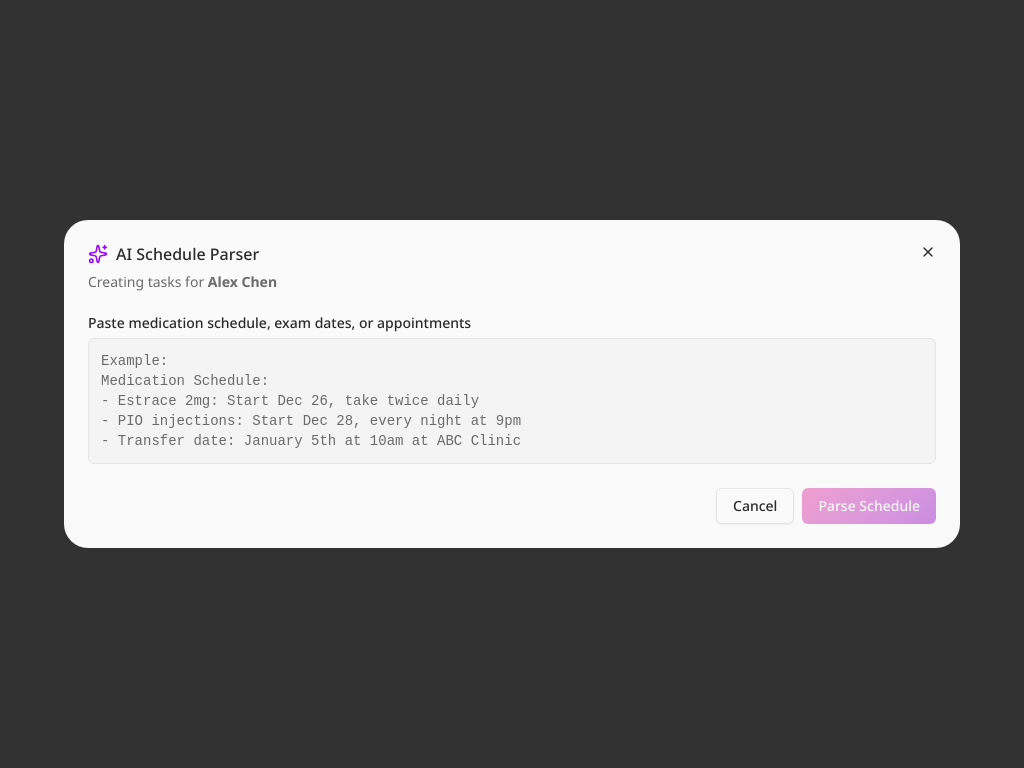
Test: ScheduleParserDialog › shows parser warnings without advancing when no tasks are proposed
This screenshot has width=1024, height=768.
Replace the text in the text box with "No usable dates here". click: (512, 401)
box: [88,338,936,464]
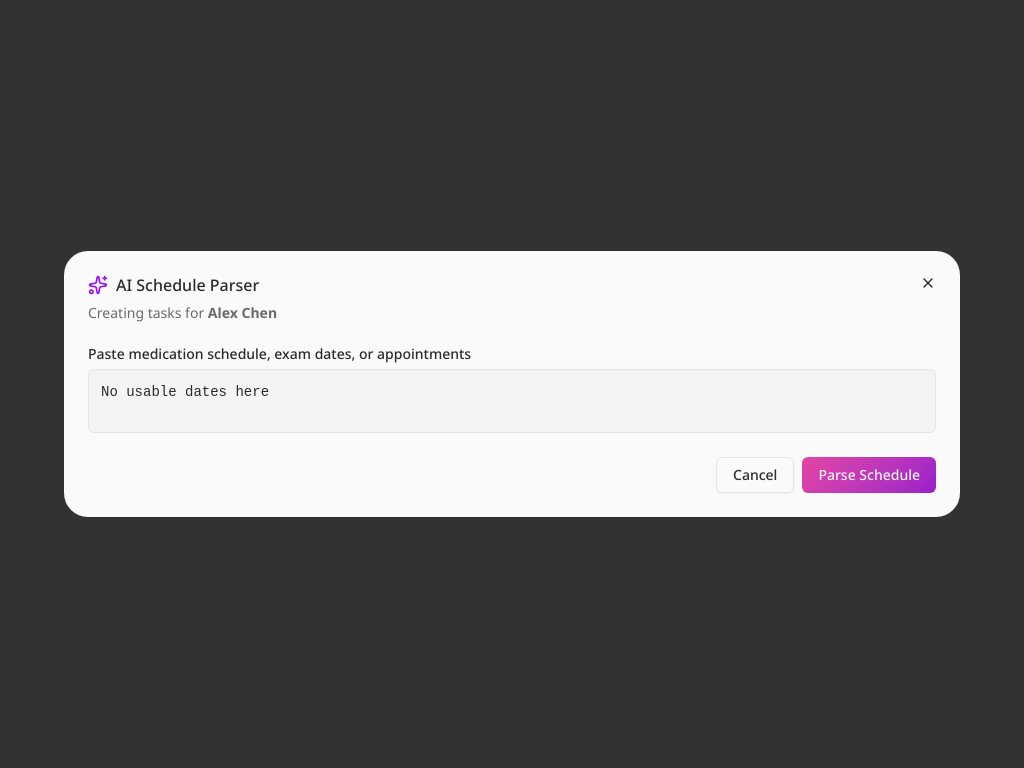
Click the button "Parse Schedule". click: click(869, 475)
box: [802,457,936,493]
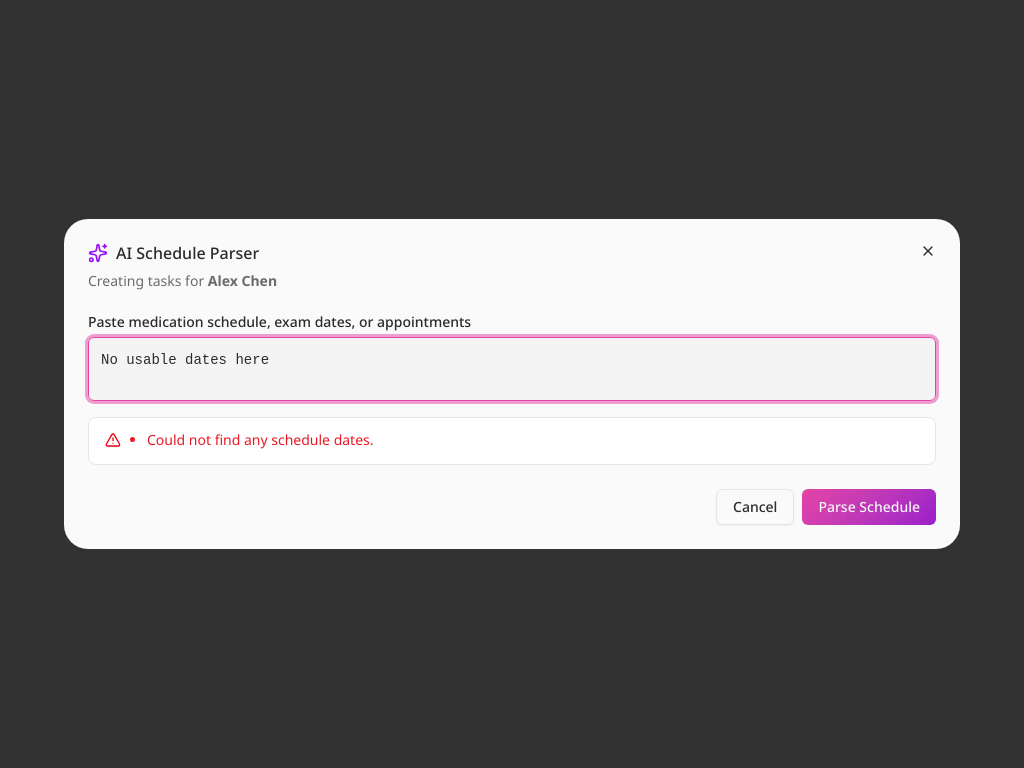
Expected: the button "Parse Schedule" is shown, [802,489,936,525]
Expected: the list item "Could not find any schedule dates." is shown, [147,430,374,449]
